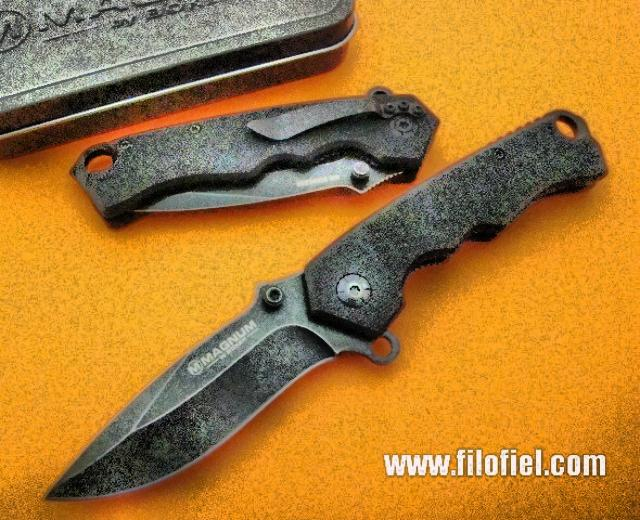knife: (35, 264, 348, 506)
